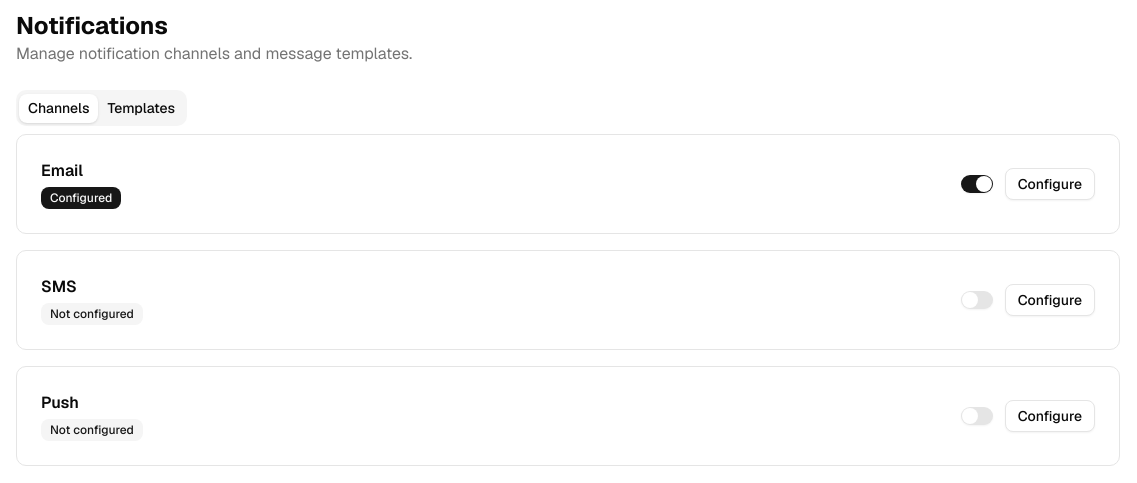
it: NotificationsPage › switches to Templates tab
Click the tab "Templates".
click(141, 108)  # box [98,94,184,122]
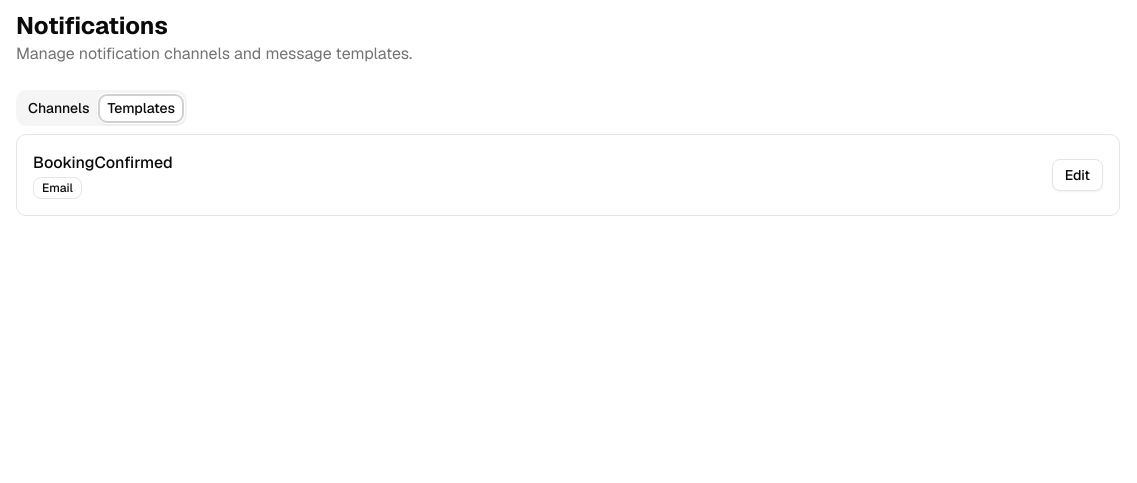
Now the text "BookingConfirmed" is shown, box [33,151,173,175]
